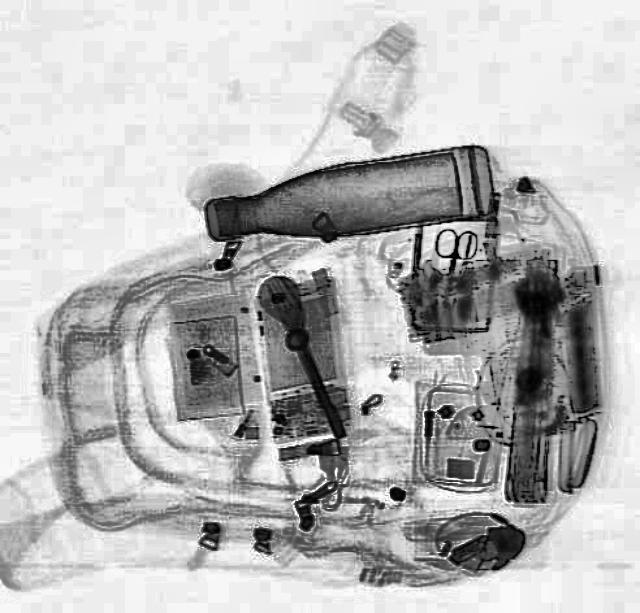Scissors: (420, 226, 480, 312)
